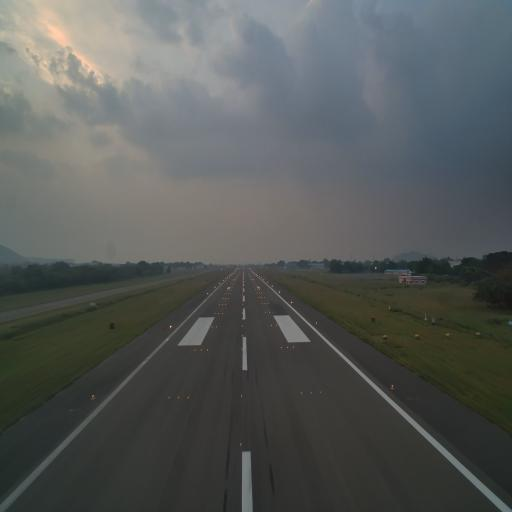off: (241, 365, 243, 370)
on: (185, 392, 190, 401), (300, 389, 305, 397), (91, 392, 95, 401), (167, 394, 171, 403), (390, 383, 396, 389), (318, 388, 323, 394), (239, 441, 243, 447), (239, 393, 243, 399), (292, 344, 296, 350), (310, 389, 313, 396), (177, 395, 181, 400), (206, 346, 209, 352), (241, 346, 244, 352), (193, 347, 196, 352), (280, 345, 283, 350), (286, 345, 289, 350), (200, 347, 202, 353)
